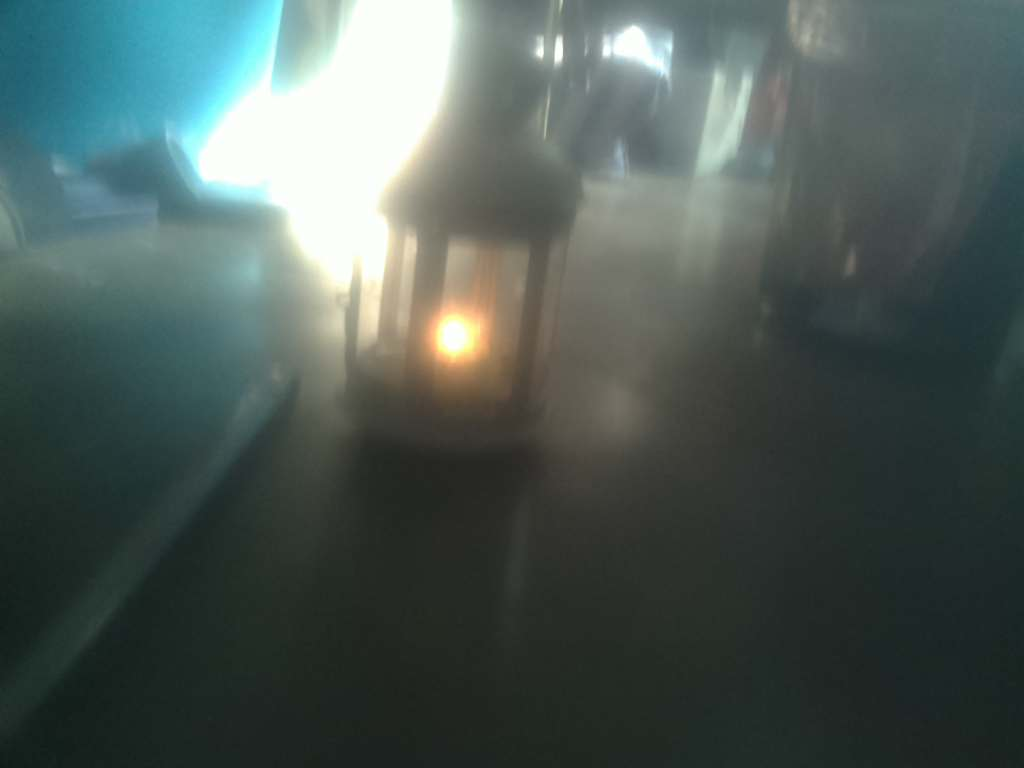fire: (421, 303, 501, 375)
